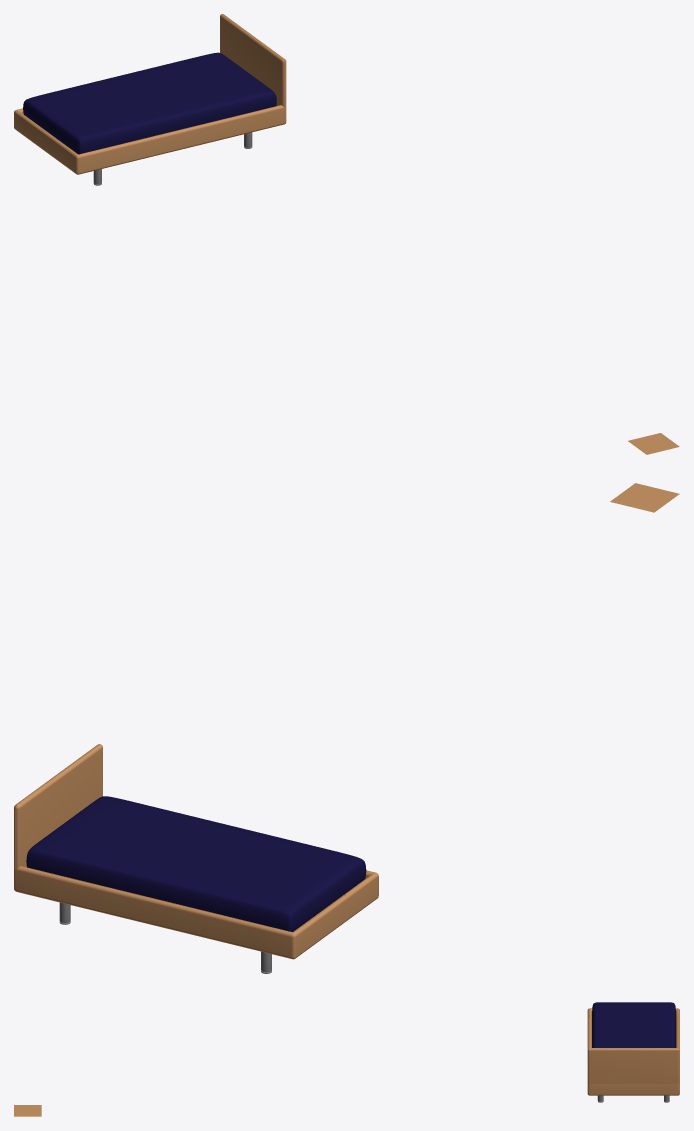
Rendered from toronto-bed-mattress.fbx.
3 views of the same model, one above another, from view 1: azimuth 30°, elevation 25°; view 2: azimuth 150°, elevation 25°; view 3: azimuth 270°, elevation 25° (orthographic). The views are drawn at different scales.
Parts seen in each view (by area): view 1: toronto-bed-mattress; view 2: toronto-bed-mattress; view 3: toronto-bed-mattress.
Boxes of the visible parts, x1=… form: toronto-bed-mattress: x1=14, y1=14, x2=679, y2=454; toronto-bed-mattress: x1=14, y1=483, x2=679, y2=973; toronto-bed-mattress: x1=14, y1=1002, x2=679, y2=1116.
Bounding box in the file's own units: 1266 × 551 × 4801.
